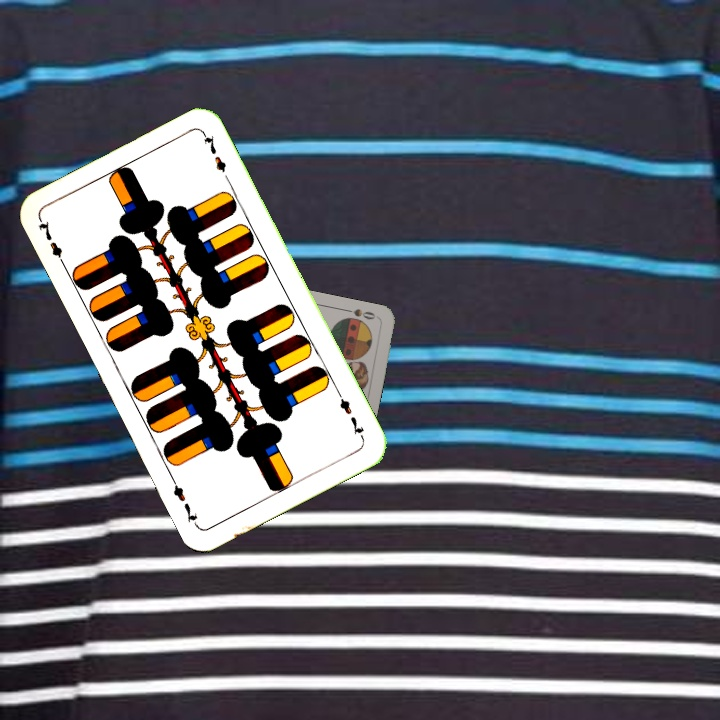E7: (34, 216, 69, 271), (333, 387, 367, 442)
SO: (340, 305, 381, 322)
